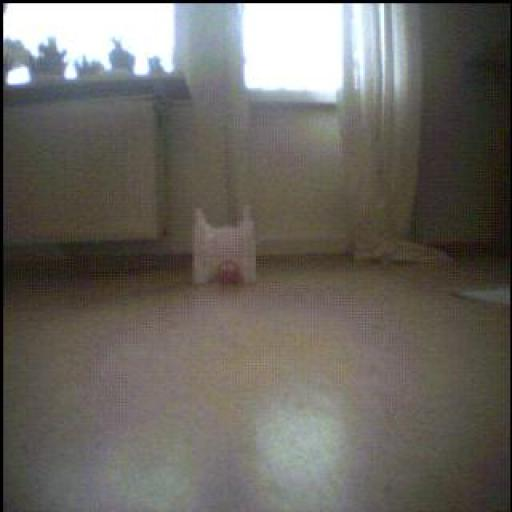Basket: (219, 258, 245, 292)
